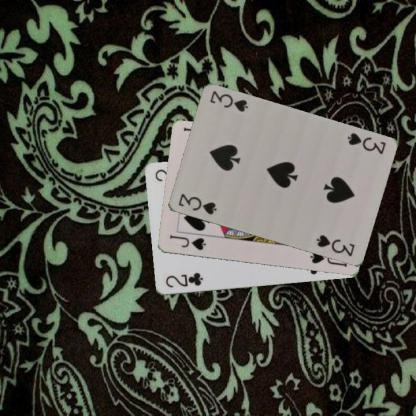2c: (163, 271, 204, 290)
3s: (344, 130, 387, 156), (176, 191, 218, 216)
Js: (167, 232, 207, 252)
